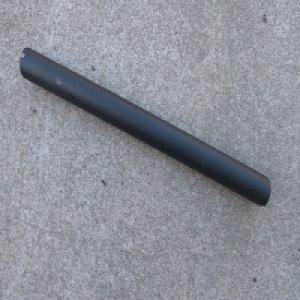LuggagePart: (16, 43, 272, 208)
